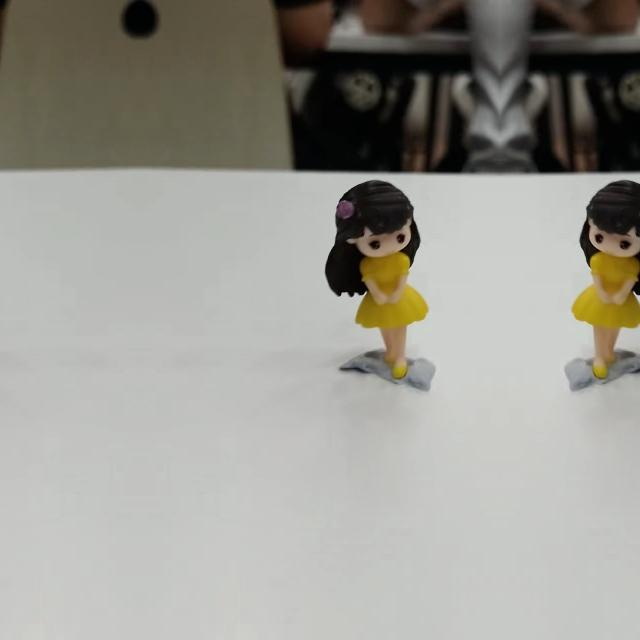woman head: (331, 178, 423, 258), (577, 177, 640, 258)
